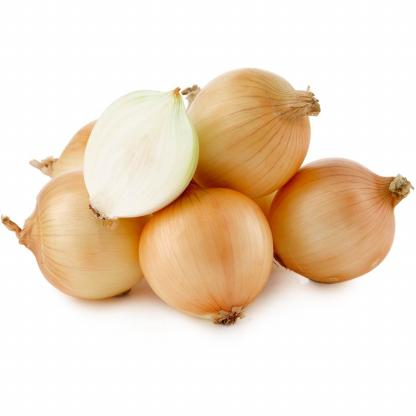--: (136, 184, 278, 342), (183, 58, 331, 192), (80, 66, 195, 225), (271, 157, 407, 289)
